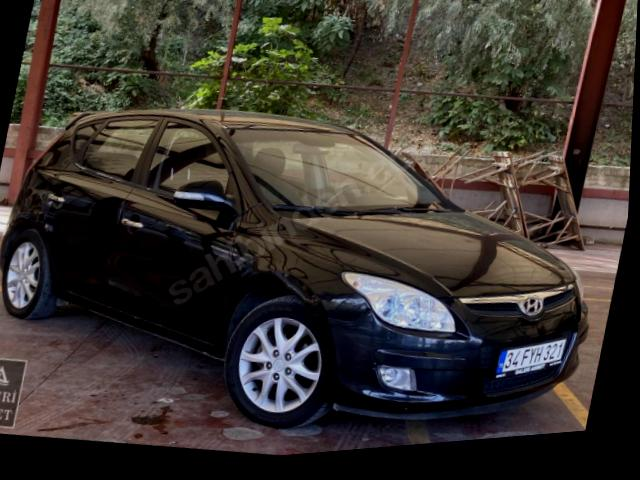plaka: (496, 339, 565, 378)
